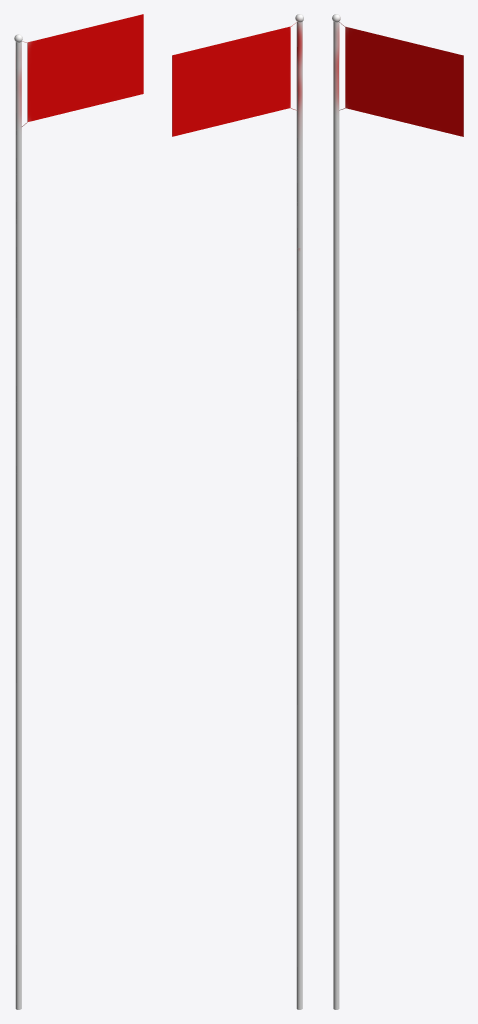
Rendered from flag.obj.
3 views of the same model, side by side, from view 1: azimuth 30°, elevation 25°; view 2: azimuth 210°, elevation 25°; view 3: azimuth 330°, elevation 25° (orthographic). The views are drawn at different scales.
Visible parts, largest first — view 1: flag; view 2: flag; view 3: flag.
Boxes of the visible parts, bbox=[...] form: flag: bbox=[14, 14, 143, 1009]; flag: bbox=[172, 14, 303, 1009]; flag: bbox=[332, 14, 463, 1009].
Size of the model in its own units: 2.96 by 21.46 by 0.1689.
